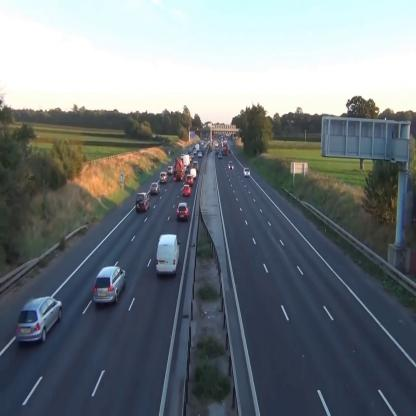car: (16, 296, 62, 344), (92, 266, 126, 304), (136, 193, 150, 211), (177, 203, 189, 220), (150, 183, 160, 195), (160, 171, 168, 182), (183, 185, 191, 196), (186, 174, 193, 186), (190, 169, 196, 178), (244, 167, 249, 177), (228, 160, 234, 168), (168, 166, 173, 174)
lorry: (156, 234, 181, 276), (174, 158, 184, 181)
